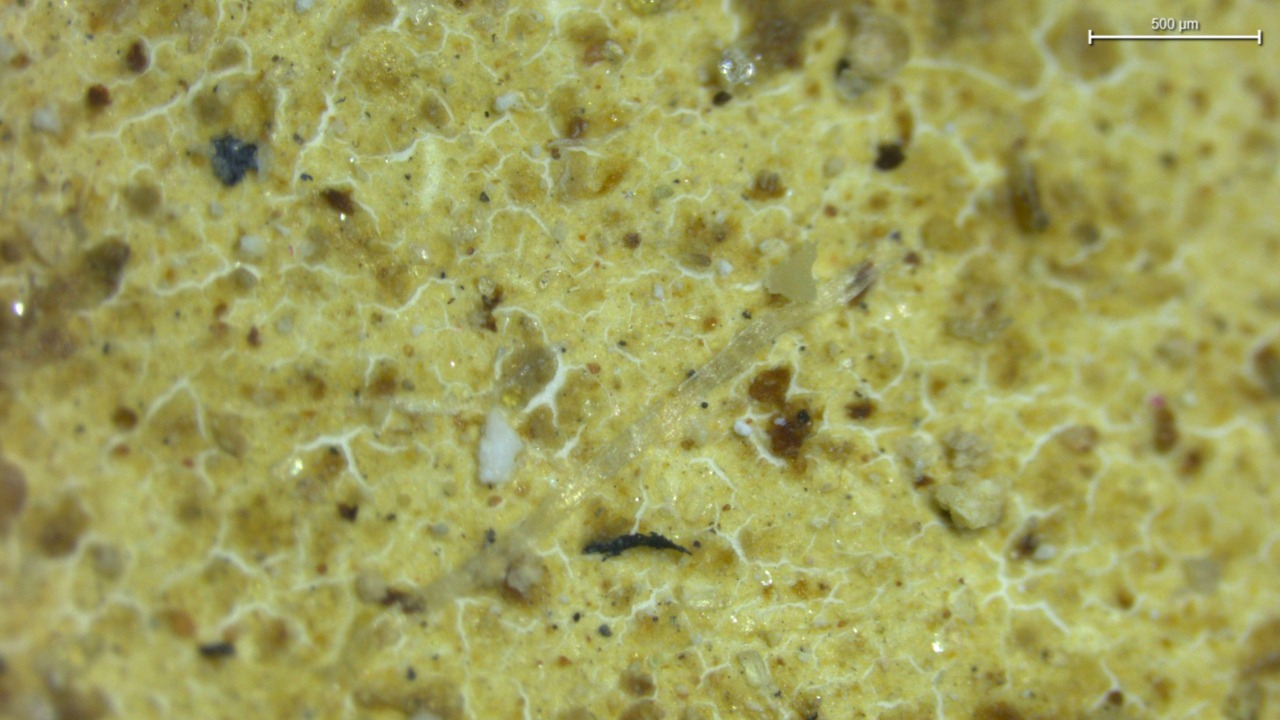microplastic_fragment: (934, 479, 1003, 529), (478, 409, 522, 485)
